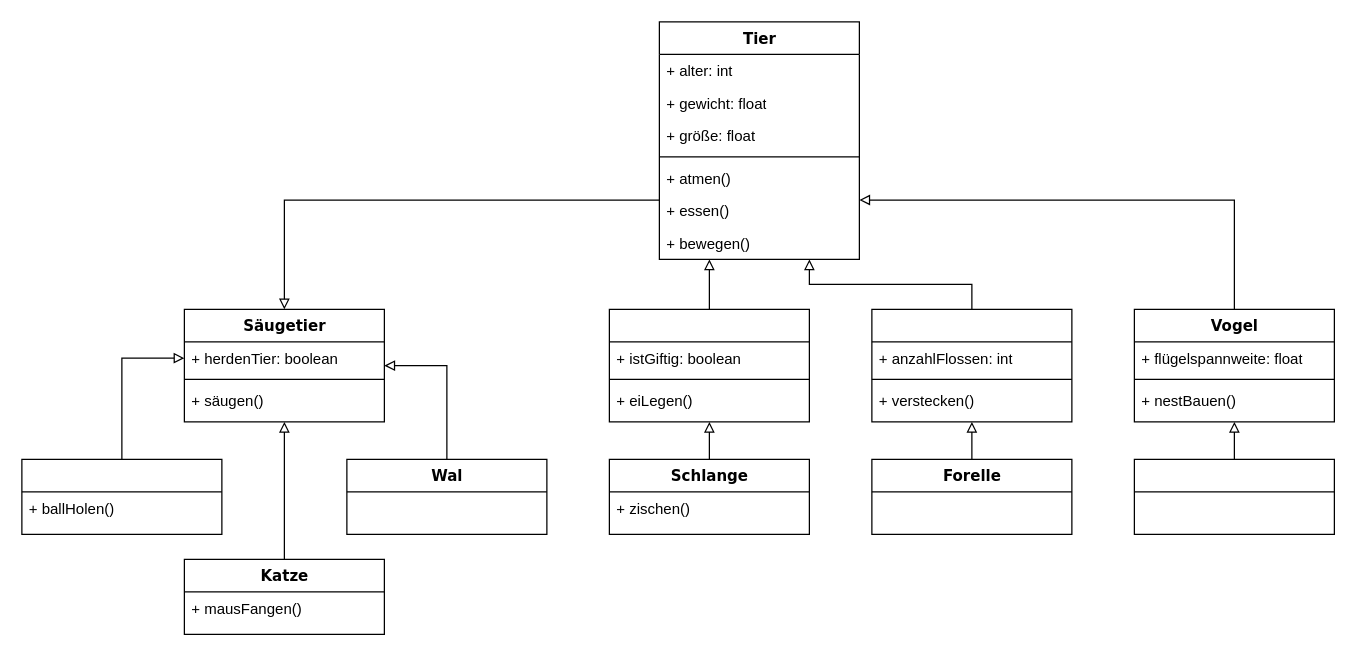
The diagram is 1356 pixels wide and 656 high, and some of its shapes have lost their labels. The box of each missing label's shape, as (x1, y1, x2, y2) in pixels:
Amsel: (1133, 458, 1334, 534)
Fisch: (871, 308, 1072, 422)
Hund: (21, 458, 222, 534)
Reptil: (608, 308, 809, 422)
